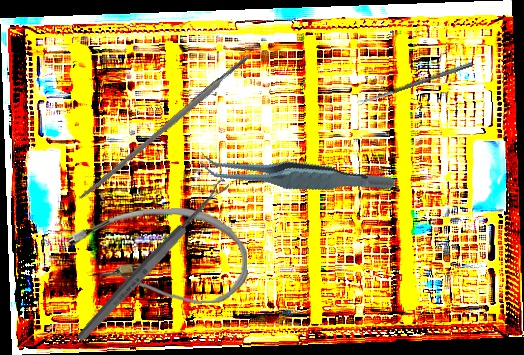Cannula: (67, 205, 249, 309)
Scalpel Handle: (76, 51, 255, 204)
Surgical Spoon: (74, 177, 232, 344), (356, 61, 474, 106)
Tissue Forceps: (196, 118, 397, 231)
